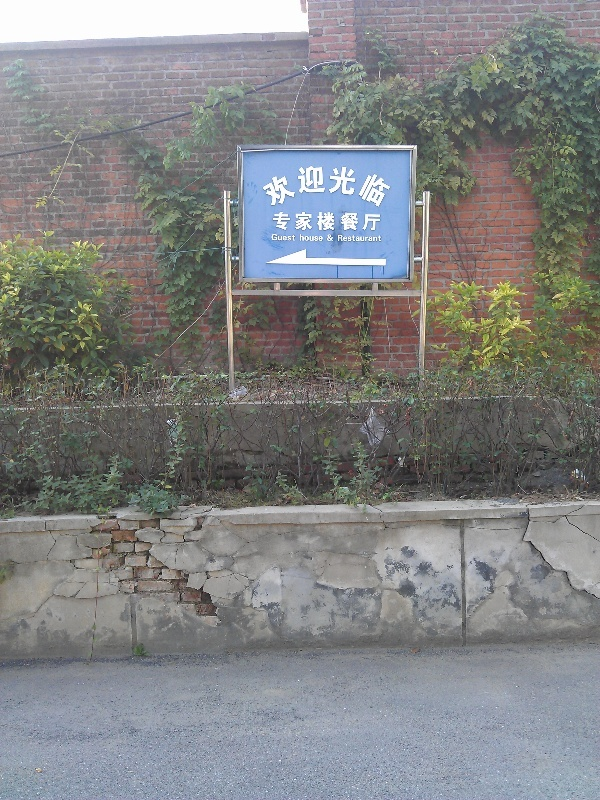text: (273, 166, 288, 206), (289, 166, 304, 206), (305, 166, 320, 206), (321, 166, 336, 206), (337, 166, 352, 206), (353, 166, 368, 206), (369, 166, 384, 206), (264, 166, 272, 206), (273, 212, 288, 232), (289, 212, 304, 232), (305, 212, 320, 232), (321, 212, 336, 232), (337, 212, 352, 232), (353, 212, 368, 232), (385, 166, 391, 206), (369, 212, 381, 232), (353, 234, 368, 243), (338, 234, 352, 243), (273, 234, 288, 242), (305, 234, 320, 242), (369, 234, 382, 243), (326, 234, 336, 242), (289, 234, 297, 242), (299, 234, 304, 242), (321, 234, 324, 242), (271, 234, 272, 242)
